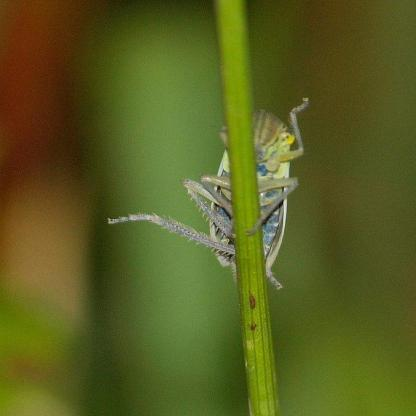Green-Leafhopper: (108, 90, 314, 304)
